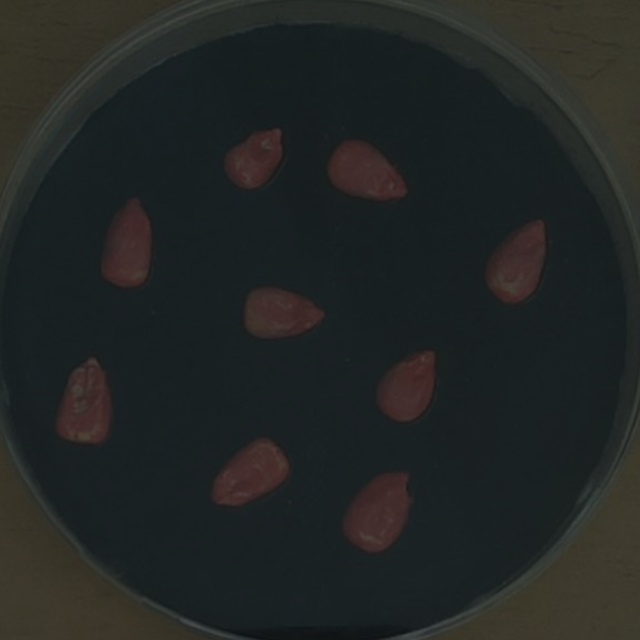Zea mays: (333, 460, 422, 562), (475, 207, 557, 313), (201, 429, 298, 518), (316, 126, 417, 211), (46, 346, 121, 452), (93, 189, 161, 295), (368, 341, 447, 429), (234, 277, 332, 347), (213, 117, 293, 201)
